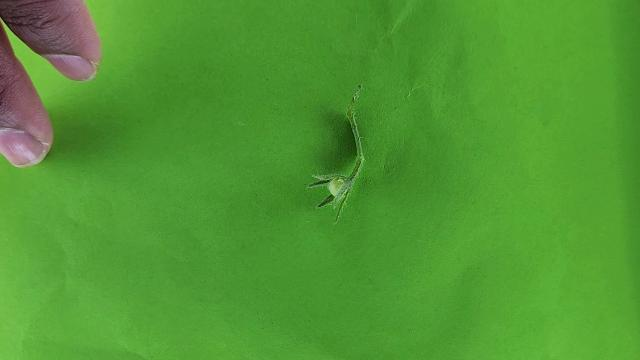Fruit Bud: (308, 174, 351, 208), (315, 172, 355, 208)
